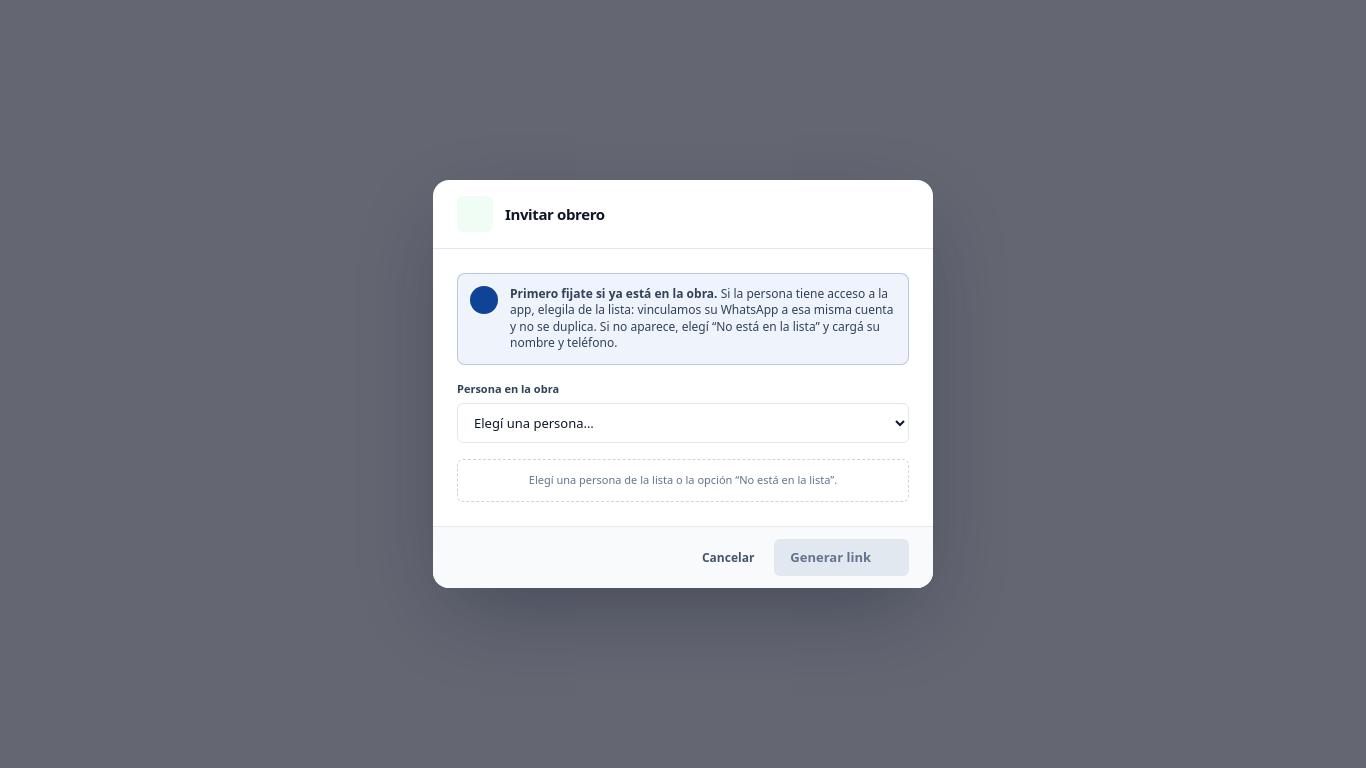
Scenario: InviteTeamModal — selector de personas de la obra › 'No está en la lista' vuelve al alta manual con nombre y rol
Select "No está en la lista: cargar nombre y teléfono" in the dropdown at x=683, y=423, box [457, 403, 909, 443]
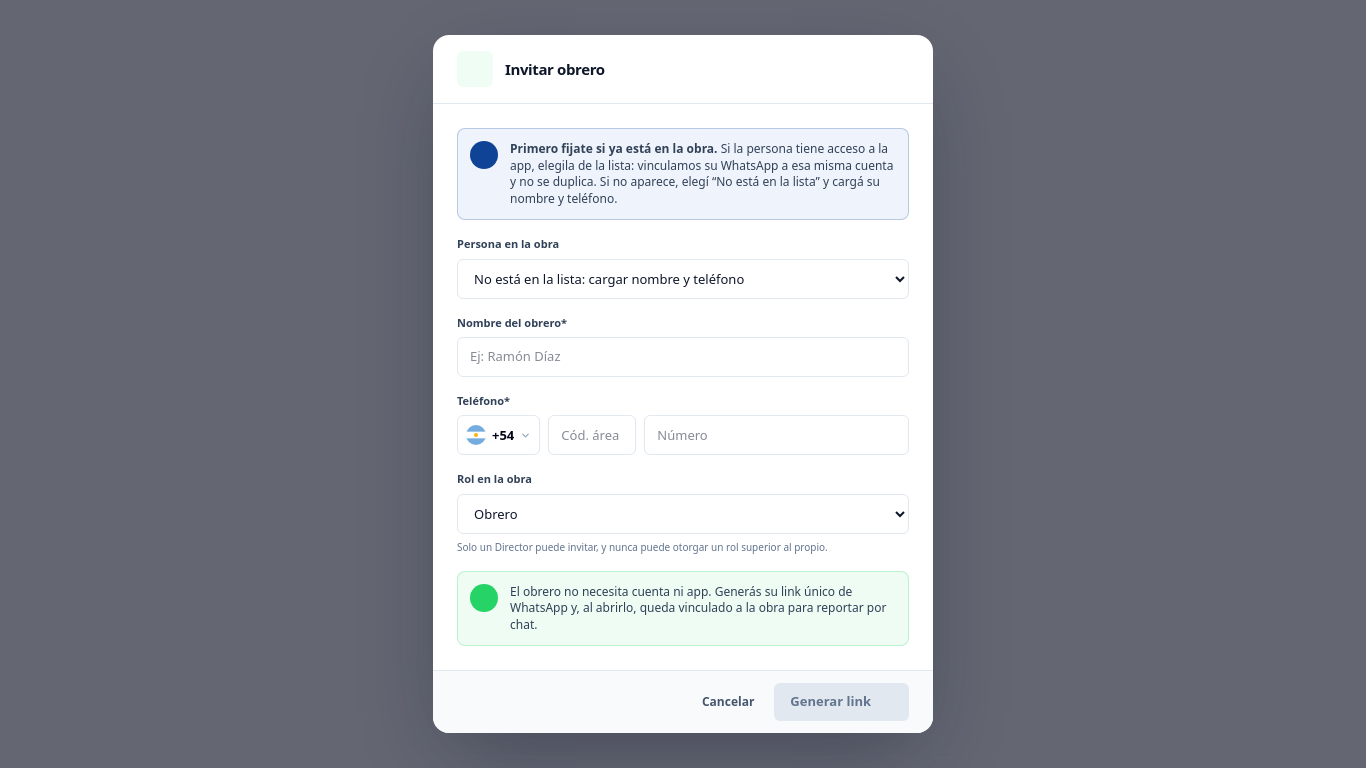
Now the field with placeholder "Ej: Ramón Díaz" is shown, box [457, 337, 909, 377]
Now the text "El obrero no necesita cuenta ni app" is shown, box [510, 583, 886, 633]
